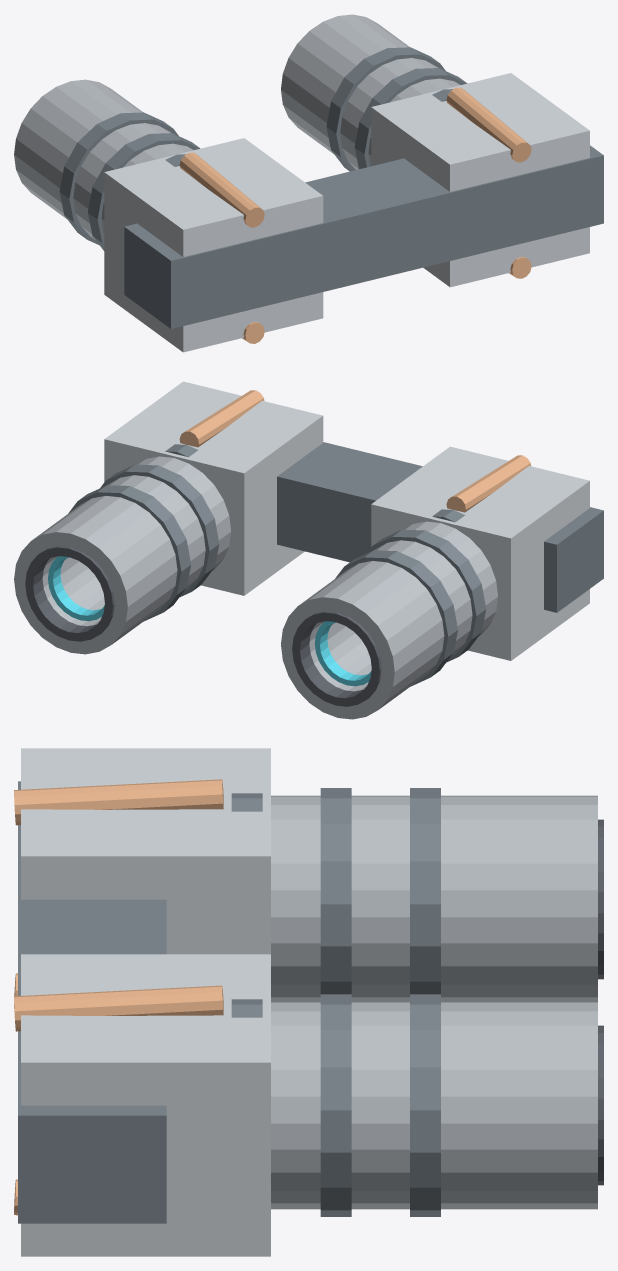
Rendered from engine_stock.glb.
The picture shows the model from 3 angles, top to bottom: view 1: azimuth 30°, elevation 25°; view 2: azimuth 150°, elevation 25°; view 3: azimuth 270°, elevation 25°; orthographic projection. The views are drawn at different scales.
Parts seen in each view (by area): view 1: CASSETTE_CORE_CRADLE, MAIN_-1_ENGINE_BLOCK, MAIN_1_ENGINE_BLOCK, MAIN_-1_HOLLOW_BELL, MAIN_1_HOLLOW_BELL, MAIN_-1_HEAT_RING_2, MAIN_1_HEAT_RING_2, MAIN_-1_HEAT_RING_1, MAIN_1_HEAT_RING_1, MAIN_-1_MOUNT_1, MAIN_1_MOUNT_1; view 2: MAIN_-1_ENGINE_BLOCK, MAIN_1_ENGINE_BLOCK, MAIN_1_HOLLOW_BELL, MAIN_-1_HOLLOW_BELL, CASSETTE_CORE_CRADLE, MAIN_-1_INNER_RIM, MAIN_1_INNER_RIM, MAIN_-1_HEAT_RING_2, MAIN_1_HEAT_RING_2, MAIN_-1_HEAT_RING_1, MAIN_1_HEAT_RING_1, MAIN_1_MOUNT_1 (+3 smaller); view 3: MAIN_1_HOLLOW_BELL, MAIN_-1_HOLLOW_BELL, MAIN_1_ENGINE_BLOCK, MAIN_-1_ENGINE_BLOCK, CASSETTE_CORE_CRADLE, MAIN_1_HEAT_RING_1, MAIN_1_HEAT_RING_2, MAIN_-1_HEAT_RING_1, MAIN_-1_HEAT_RING_2, MAIN_-1_MOUNT_1, MAIN_1_MOUNT_1, MAIN_-1_INNER_RIM (+1 smaller).
Boxes of the visible parts, x1=… form: CASSETTE_CORE_CRADLE: x1=124, y1=145, x2=603, y2=328; MAIN_-1_ENGINE_BLOCK: x1=104, y1=138, x2=323, y2=352; MAIN_1_ENGINE_BLOCK: x1=371, y1=73, x2=589, y2=287; MAIN_-1_HOLLOW_BELL: x1=14, y1=79, x2=193, y2=239; MAIN_1_HOLLOW_BELL: x1=281, y1=14, x2=460, y2=169; MAIN_-1_HEAT_RING_2: x1=59, y1=112, x2=178, y2=245; MAIN_1_HEAT_RING_2: x1=326, y1=47, x2=445, y2=171; MAIN_-1_HEAT_RING_1: x1=88, y1=133, x2=200, y2=250; MAIN_1_HEAT_RING_1: x1=354, y1=68, x2=467, y2=169; MAIN_-1_MOUNT_1: x1=179, y1=152, x2=264, y2=227; MAIN_1_MOUNT_1: x1=446, y1=87, x2=531, y2=162; MAIN_-1_ENGINE_BLOCK: x1=371, y1=446, x2=589, y2=660; MAIN_1_ENGINE_BLOCK: x1=104, y1=381, x2=323, y2=595; MAIN_1_HOLLOW_BELL: x1=14, y1=456, x2=231, y2=654; MAIN_-1_HOLLOW_BELL: x1=281, y1=521, x2=497, y2=719; CASSETTE_CORE_CRADLE: x1=277, y1=442, x2=603, y2=612; MAIN_-1_INNER_RIM: x1=292, y1=611, x2=381, y2=706; MAIN_1_INNER_RIM: x1=25, y1=546, x2=114, y2=641; MAIN_-1_HEAT_RING_2: x1=335, y1=550, x2=457, y2=686; MAIN_1_HEAT_RING_2: x1=68, y1=485, x2=191, y2=621; MAIN_-1_HEAT_RING_1: x1=367, y1=529, x2=486, y2=662; MAIN_1_HEAT_RING_1: x1=100, y1=464, x2=219, y2=597; MAIN_1_MOUNT_1: x1=179, y1=390, x2=264, y2=447; MAIN_1_HOLLOW_BELL: x1=271, y1=1002, x2=597, y2=1209; MAIN_-1_HOLLOW_BELL: x1=271, y1=795, x2=597, y2=1001; MAIN_1_ENGINE_BLOCK: x1=21, y1=954, x2=270, y2=1256; MAIN_-1_ENGINE_BLOCK: x1=21, y1=748, x2=270, y2=954; CASSETTE_CORE_CRADLE: x1=18, y1=781, x2=166, y2=1223; MAIN_1_HEAT_RING_1: x1=320, y1=994, x2=351, y2=1216; MAIN_1_HEAT_RING_2: x1=410, y1=994, x2=440, y2=1216; MAIN_-1_HEAT_RING_1: x1=320, y1=788, x2=351, y2=994; MAIN_-1_HEAT_RING_2: x1=410, y1=788, x2=440, y2=994; MAIN_-1_MOUNT_1: x1=14, y1=779, x2=223, y2=825; MAIN_1_MOUNT_1: x1=14, y1=985, x2=223, y2=1031; MAIN_-1_INNER_RIM: x1=598, y1=819, x2=603, y2=979.
Size of the model in its own units: 1.33 by 0.4398 by 0.9917.
